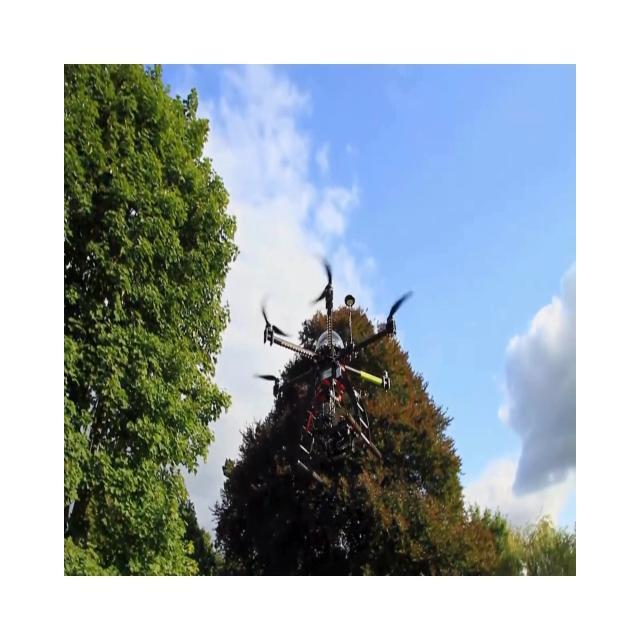drone: (254, 257, 413, 468)
